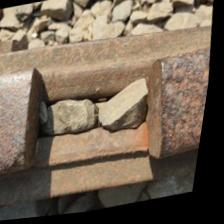person: (0, 15, 218, 219)
